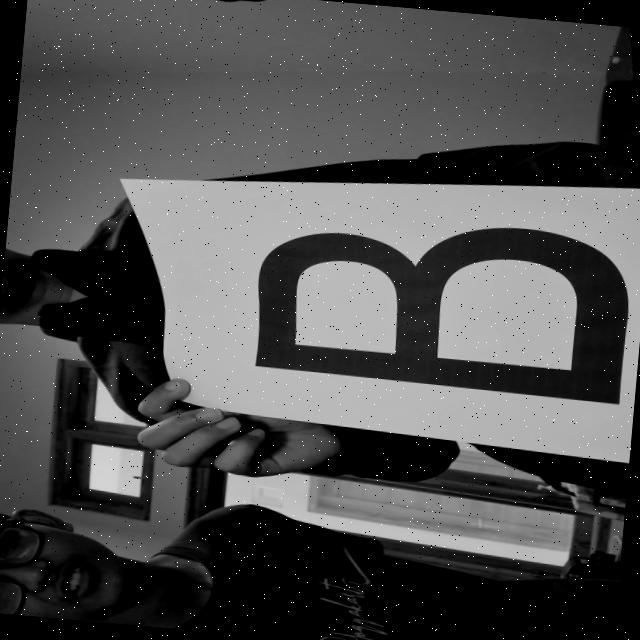b: (238, 202, 640, 410)
